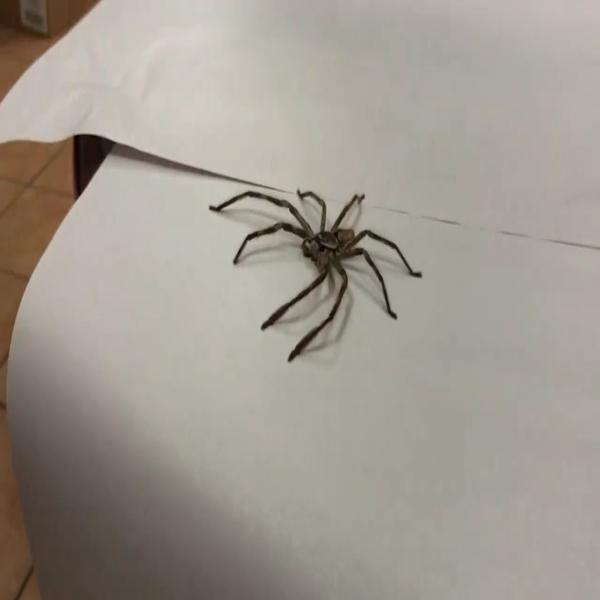Huntsman Spider: (210, 189, 424, 358)
